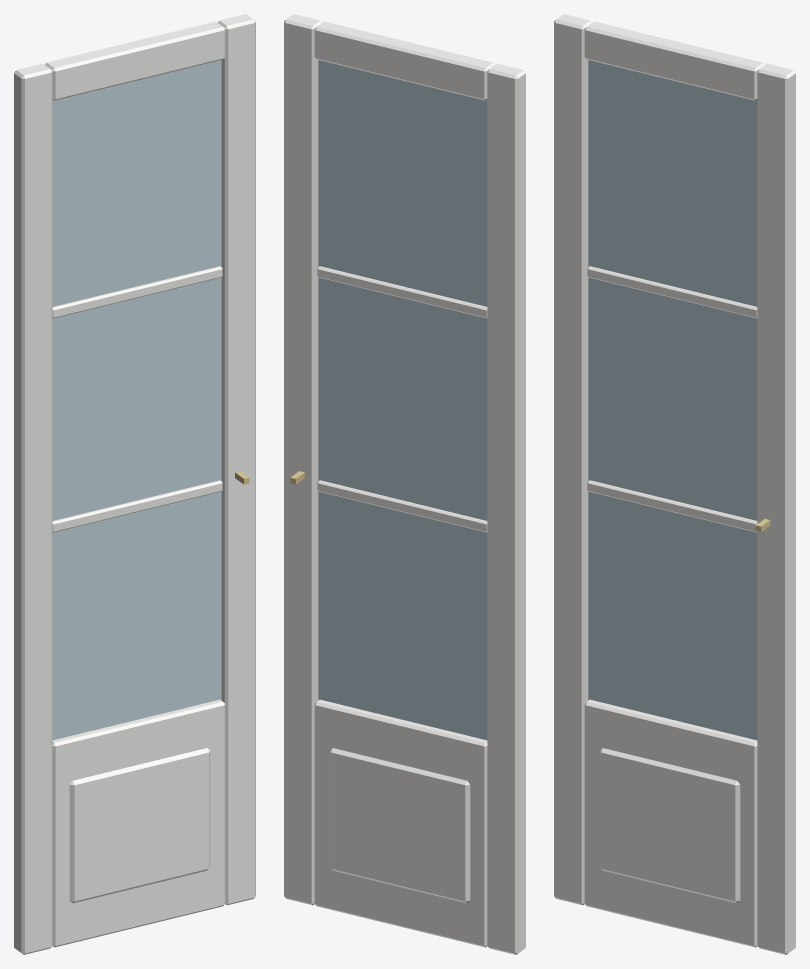
Rendered from door_leaf_balcony.glb.
3 views of the same model, side by side, from view 1: azimuth 30°, elevation 25°; view 2: azimuth 150°, elevation 25°; view 3: azimuth 330°, elevation 25° (orthographic).
Parts seen in each view (by area): view 1: door_leaf_balcony_frame, door_leaf_balcony_glass; view 2: door_leaf_balcony_frame, door_leaf_balcony_glass; view 3: door_leaf_balcony_frame, door_leaf_balcony_glass.
Boxes of the visible parts, x1,y1,x2,y2 form: door_leaf_balcony_frame: (14, 14, 255, 954); door_leaf_balcony_glass: (52, 60, 221, 740); door_leaf_balcony_frame: (284, 14, 525, 954); door_leaf_balcony_glass: (318, 60, 487, 740); door_leaf_balcony_frame: (554, 14, 795, 954); door_leaf_balcony_glass: (588, 60, 757, 740).
Size of the model in its own units: 0.6 by 2.15 by 0.125.
